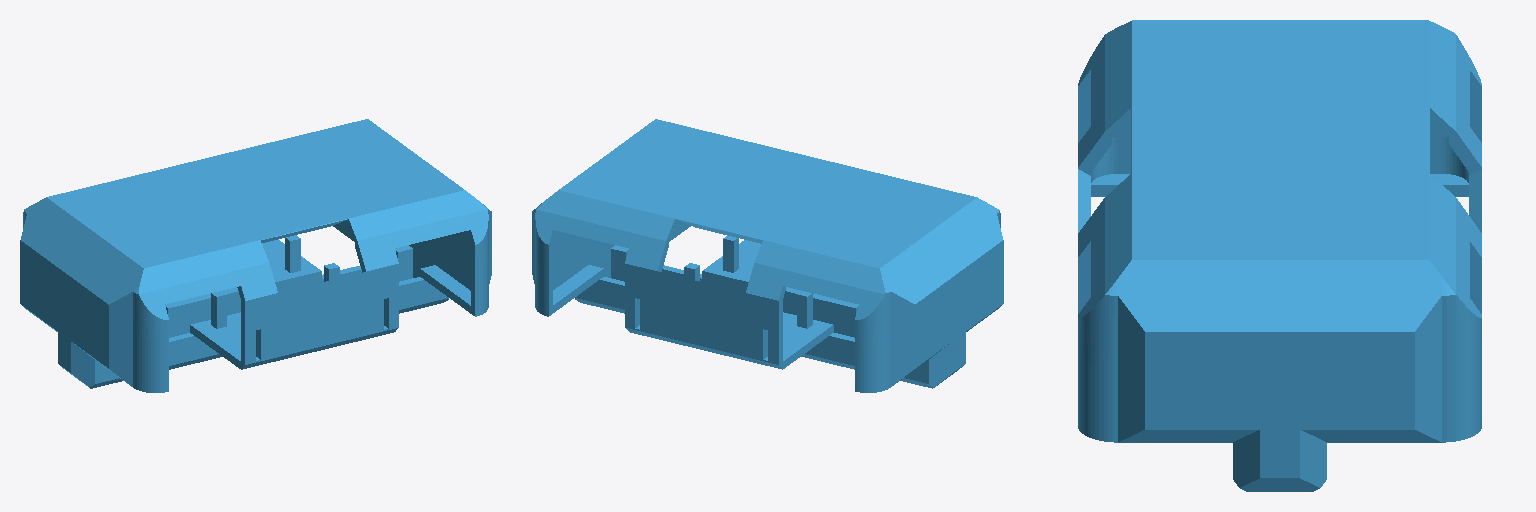
URDF robot description (goddard):
<?xml version="1.0"?>
<robot name="goddard">
    <link name="base_link" />

    <link name="body">
        <visual>
            <geometry>
                <mesh filename="package://goddard_description/meshes/body.stl" scale = "0.01 0.01 0.01" />
            </geometry>
        </visual>
    </link>

    <joint name="body_to_base_link" type="fixed">
        <parent link="base_link" />
        <child link="body" />
    </joint>

</robot>

--- Render facts (derived) ---
The picture shows the robot from 3 angles, left to right: view 1: azimuth 30°, elevation 25°; view 2: azimuth 150°, elevation 25°; view 3: azimuth 270°, elevation 25°; orthographic projection.
Robot: goddard — 2 links, 1 joints (1 fixed); root link base_link; default pose: every joint at zero.
Links seen in each view (by area): view 1: body; view 2: body; view 3: body.
Link boxes in pixels (bbox=[...]): body: bbox=[20, 119, 491, 392]; body: bbox=[532, 119, 1003, 392]; body: bbox=[1078, 20, 1481, 491].
Size in the robot's own frame: 2.5 by 1.5 by 0.9 metres.
1 mesh visuals loaded from 1 distinct referenced files (1 binary STL).
